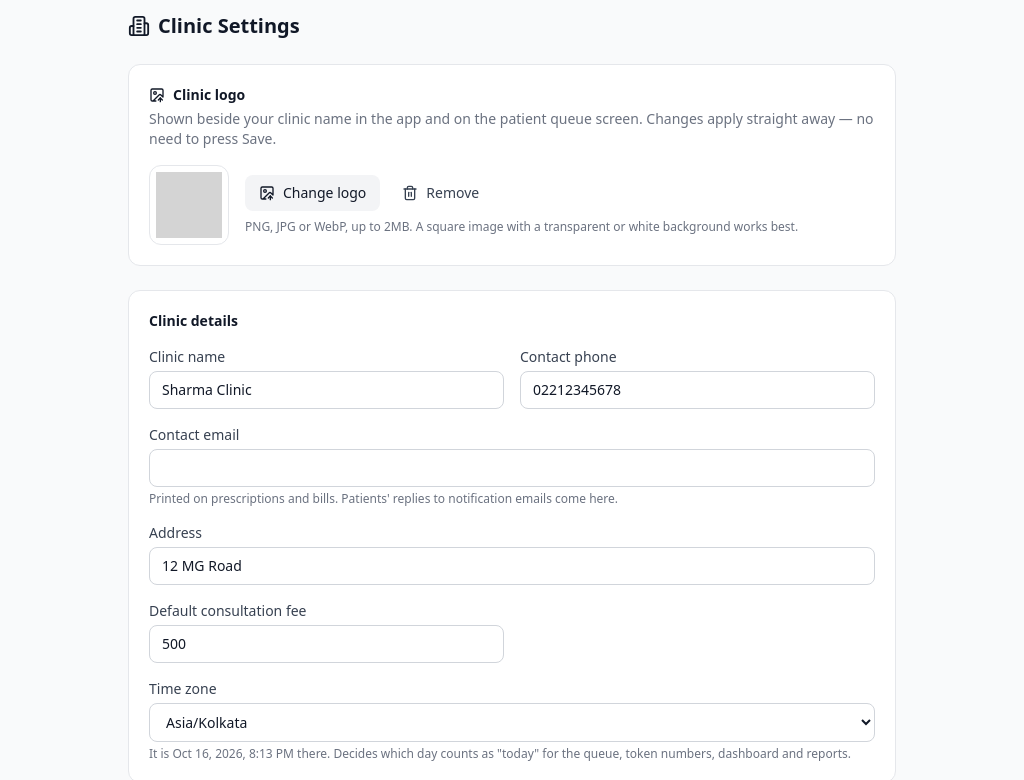
Test: Clinic Settings - clinic logo › removes the logo
This screenshot has width=1024, height=780.
Click the button "Remove": (441, 193) [388, 175, 493, 211]
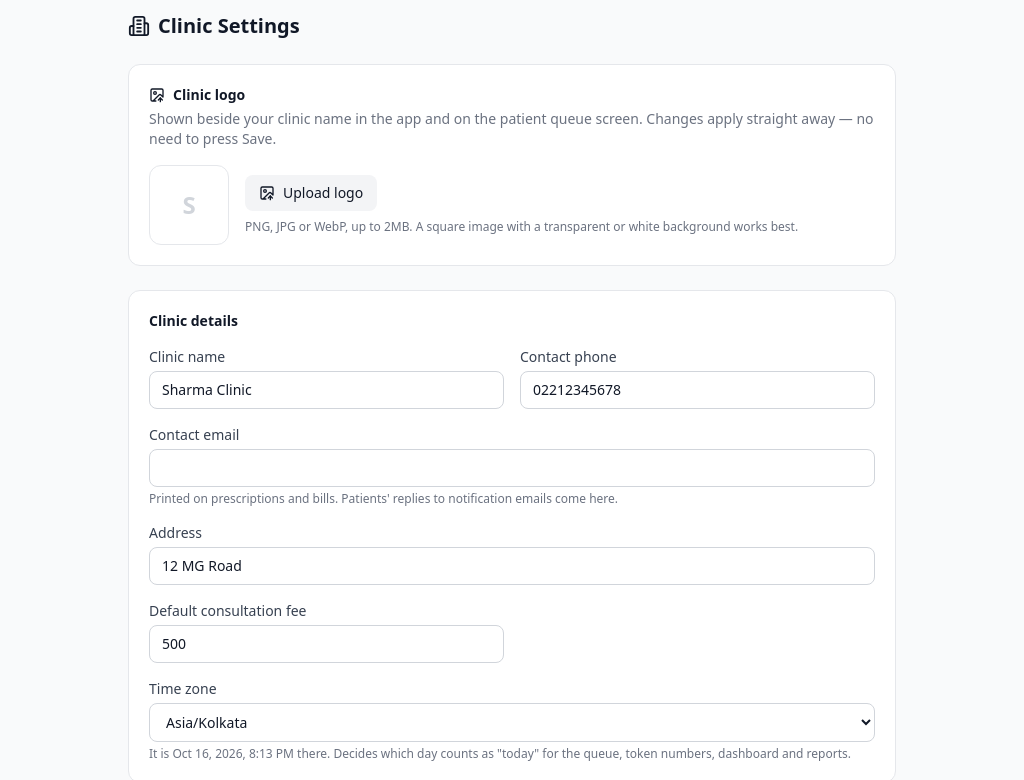
expect the button "Upload logo" is shown: met, box [245, 175, 377, 211]
